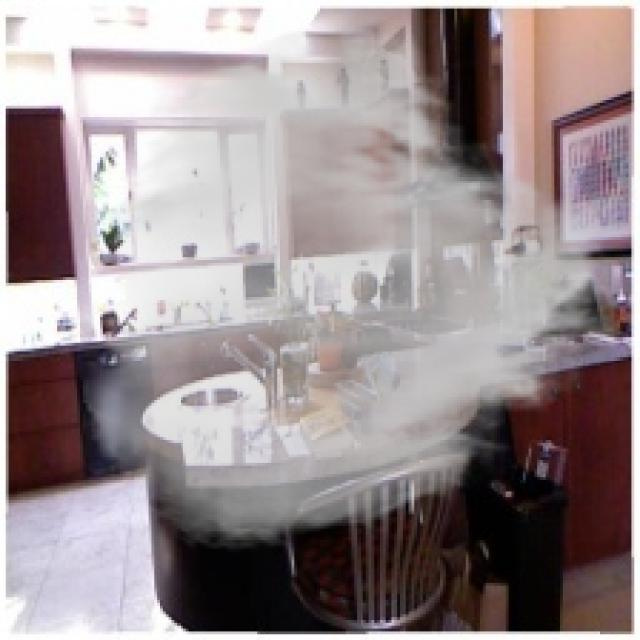smoke: (77, 23, 634, 554)
